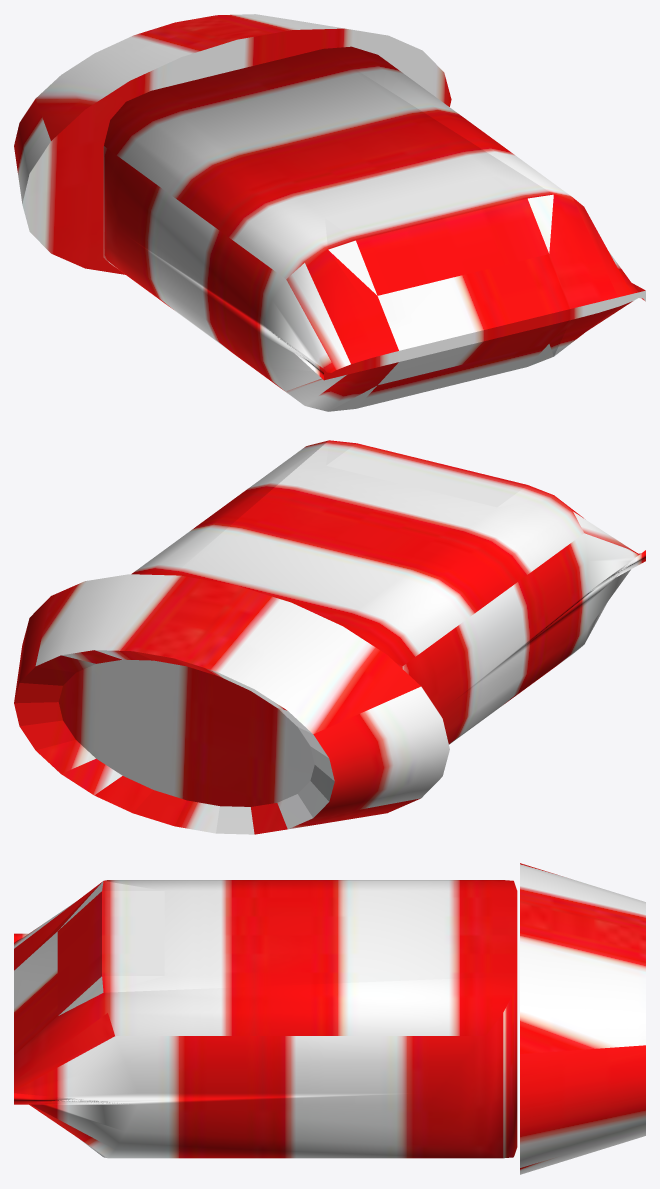
Rendered from FluorineObject.DAE.
The picture shows the model from 3 angles, top to bottom: view 1: azimuth 30°, elevation 25°; view 2: azimuth 150°, elevation 25°; view 3: azimuth 270°, elevation 25°; orthographic projection.
Parts seen in each view (by area): view 1: Box001; view 2: Box001; view 3: Box001.
Part boxes in pixels (x1,y1,x2,y2): Box001: (14,14,645,411); Box001: (14,440,645,834); Box001: (14,863,645,1174).
Bounding box in the file's own units: 7.87 × 9.89 × 3.94.
1 material, 1 textured.
